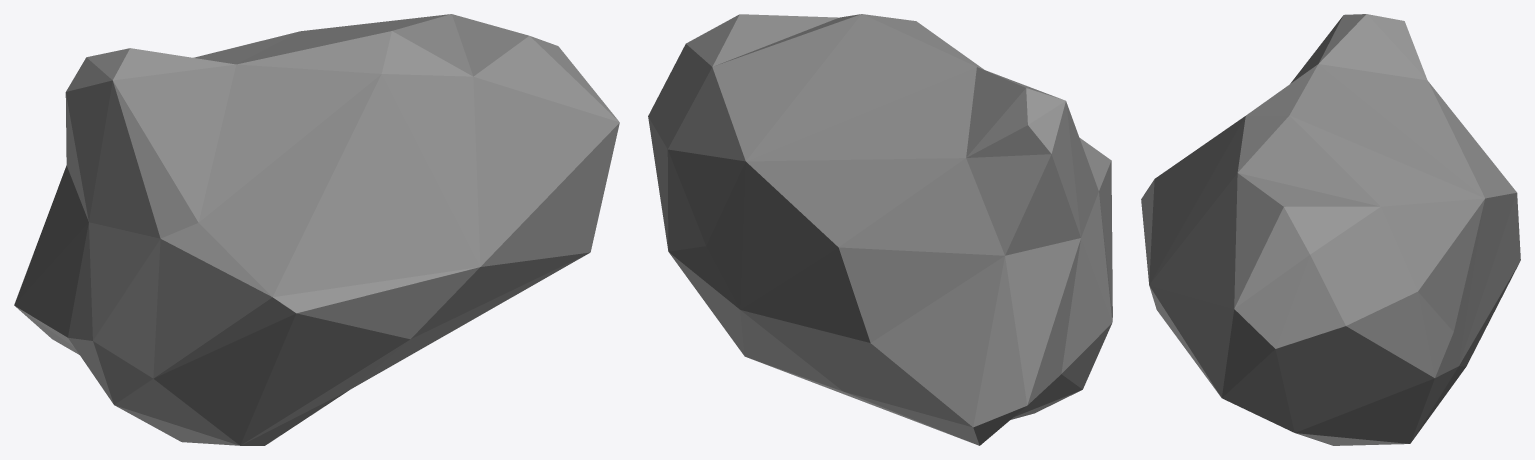
The model's file is Boulder#2.fbx.
3 renders of one model, left to right at view 1: azimuth 30°, elevation 25°; view 2: azimuth 150°, elevation 25°; view 3: azimuth 270°, elevation 25°, orthographic. The views are drawn at different scales.
Parts seen in each view (by area): view 1: Boulder#2; view 2: Boulder#2; view 3: Boulder#2.
Part boxes in pixels (x1,y1,x2,y2): Boulder#2: [14, 14, 619, 445]; Boulder#2: [648, 14, 1112, 445]; Boulder#2: [1141, 14, 1520, 445].
Bounding box in the file's own units: 12218 × 9228 × 8941.
